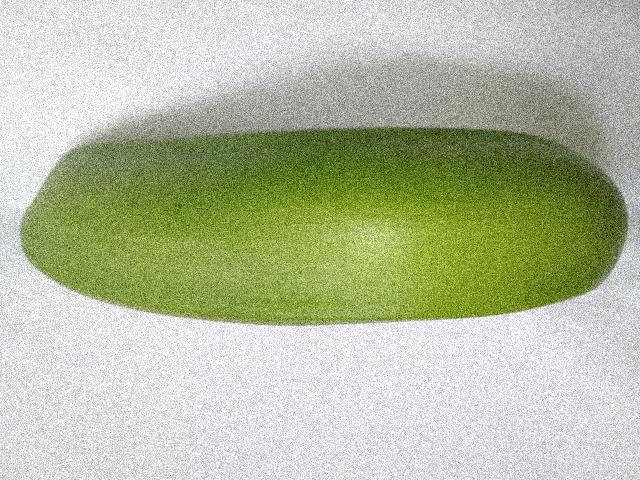freshunripe: (5, 115, 632, 330)
